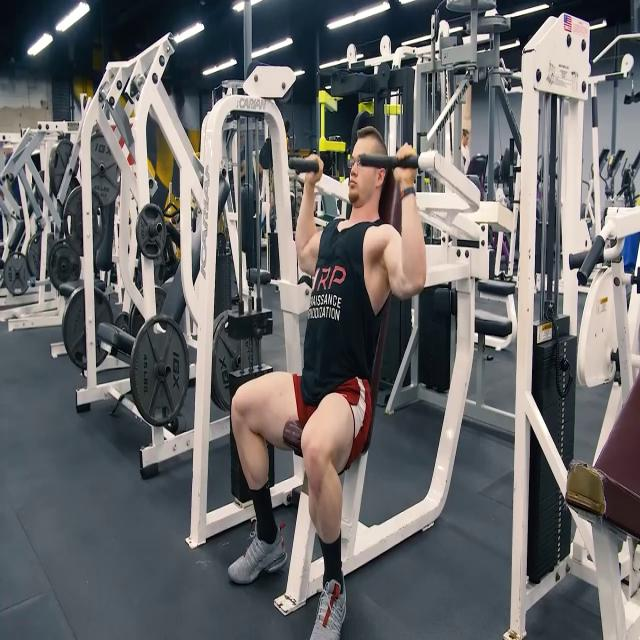Shoulder press: (207, 83, 444, 640)
